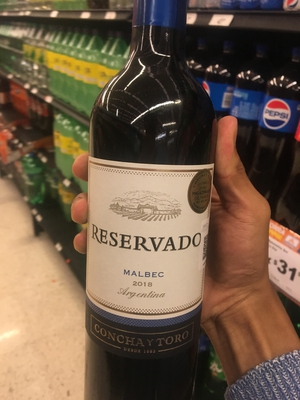reservado malbec: (84, 8, 215, 400)
